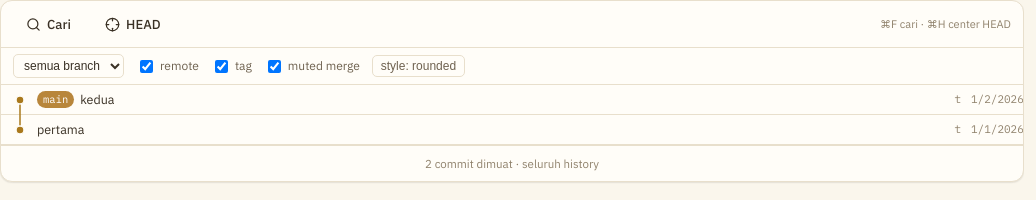
GitGraph › klik commit memuat detail file berubah
Click the text "kedua" at (97, 100), box [80,90,114,109]
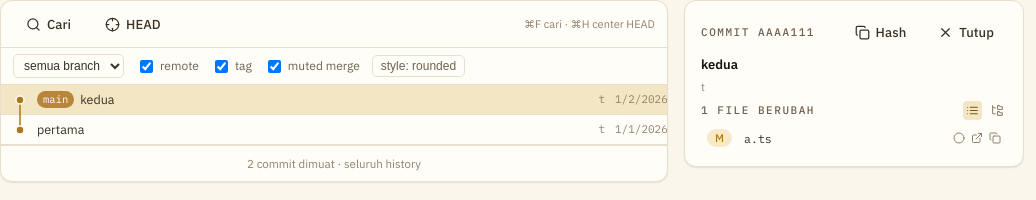
Expected: the button "a.ts" is shown, [738,130,947,146]
